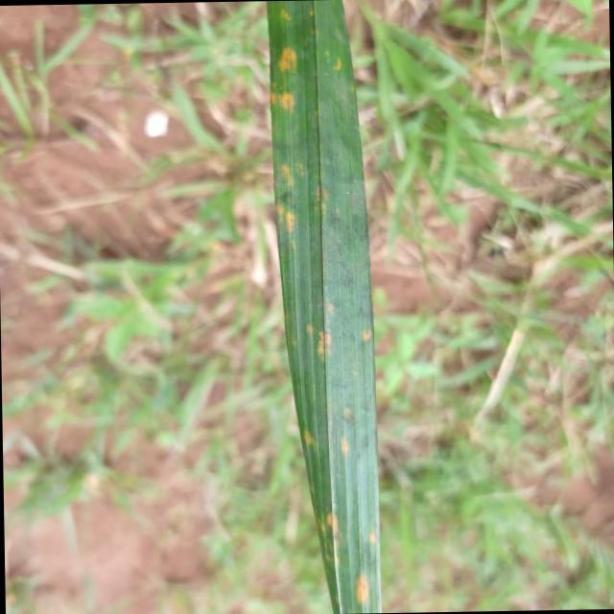Kalium: (266, 0, 382, 614)
